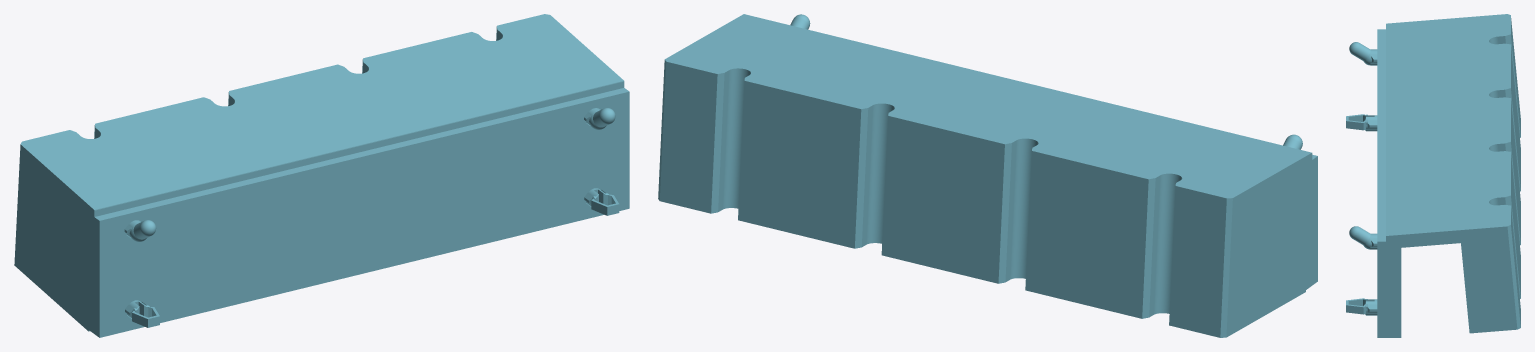
The model's file is part-mh02__current-mounts-v1__fit-pf02c9-hoop5__installed.glb.
3 views of the same model, side by side, from view 1: azimuth 30°, elevation 25°; view 2: azimuth 150°, elevation 25°; view 3: azimuth 270°, elevation 25° (orthographic). The views are drawn at different scales.
Parts seen in each view (by area): view 1: installed.stl; view 2: installed.stl; view 3: installed.stl.
Boxes of the visible parts, left/top/right/bottom form: installed.stl: left=14, top=14, right=629, bottom=337; installed.stl: left=658, top=14, right=1317, bottom=337; installed.stl: left=1346, top=14, right=1520, bottom=337.
Bounding box in the file's own units: 0.1758 × 0.0437 × 0.0611.
